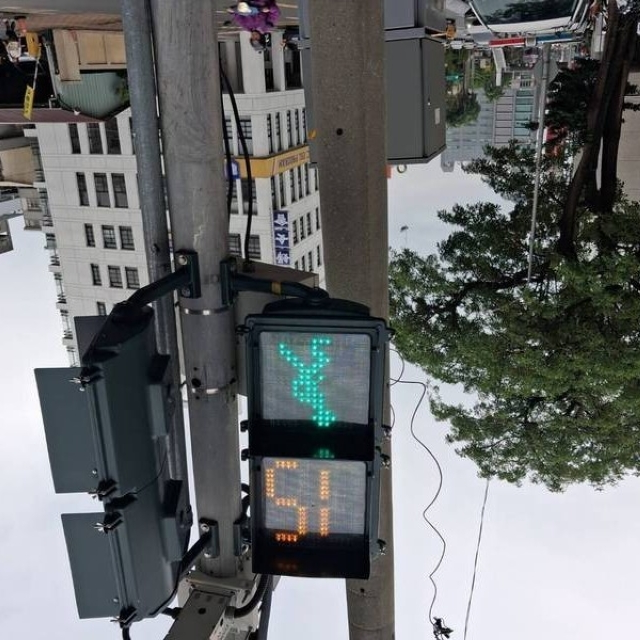green_light: (245, 316, 384, 579)
